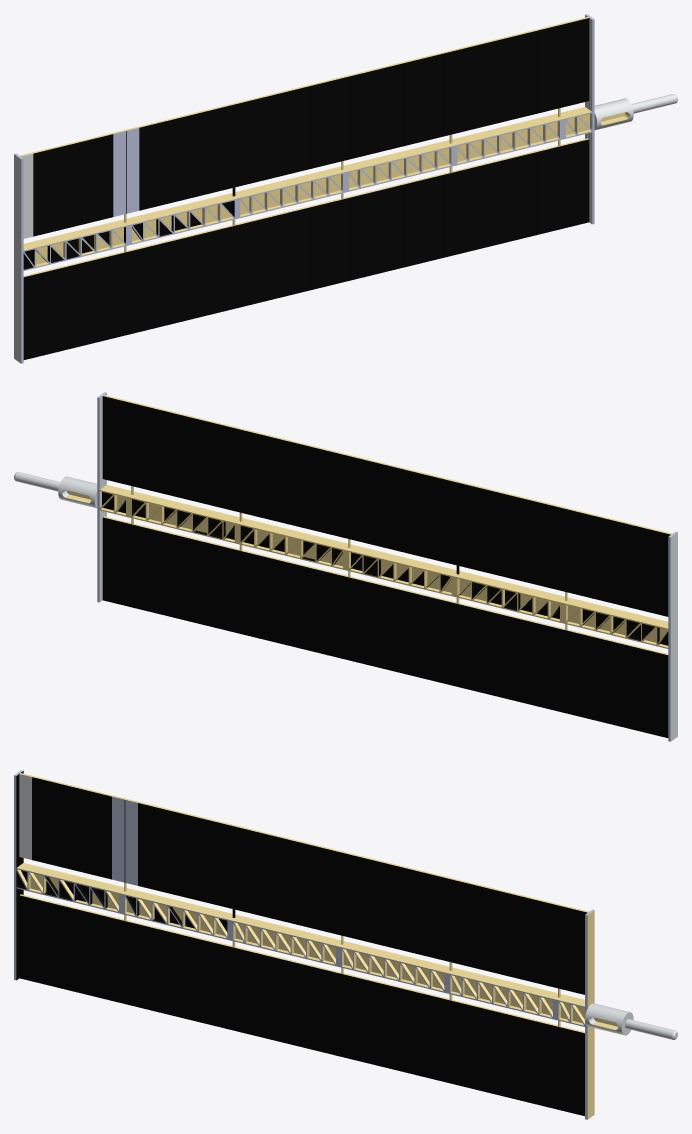
Rendered from solarpanels_2.FBX.
The picture shows the model from 3 angles, top to bottom: view 1: azimuth 30°, elevation 25°; view 2: azimuth 150°, elevation 25°; view 3: azimuth 330°, elevation 25°; orthographic projection.
Parts seen in each view (by area): view 1: pieza N111 ISS-1-solid1; view 2: pieza N111 ISS-1-solid1; view 3: pieza N111 ISS-1-solid1.
Part boxes in pixels (<box>): pieza N111 ISS-1-solid1: <box>14,14,677,363</box>; pieza N111 ISS-1-solid1: <box>14,392,677,741</box>; pieza N111 ISS-1-solid1: <box>14,770,677,1119</box>.
Size of the model in its own units: 2700 by 801 by 85.
